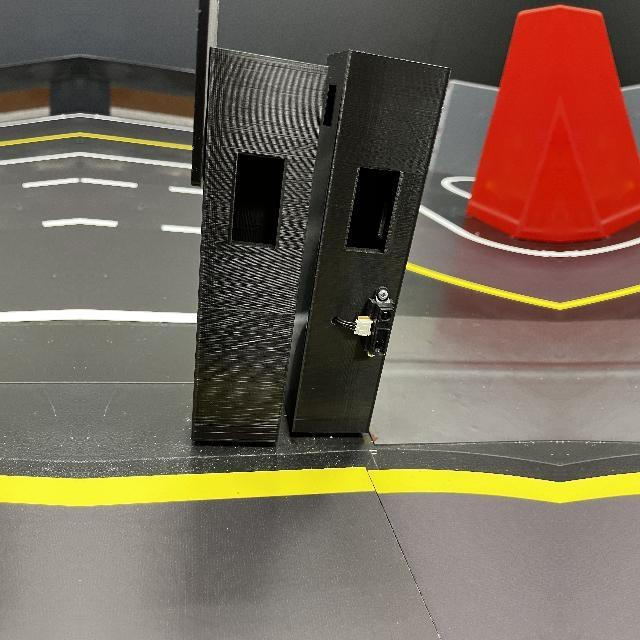obstacle: (188, 42, 336, 458), (337, 35, 451, 453)
